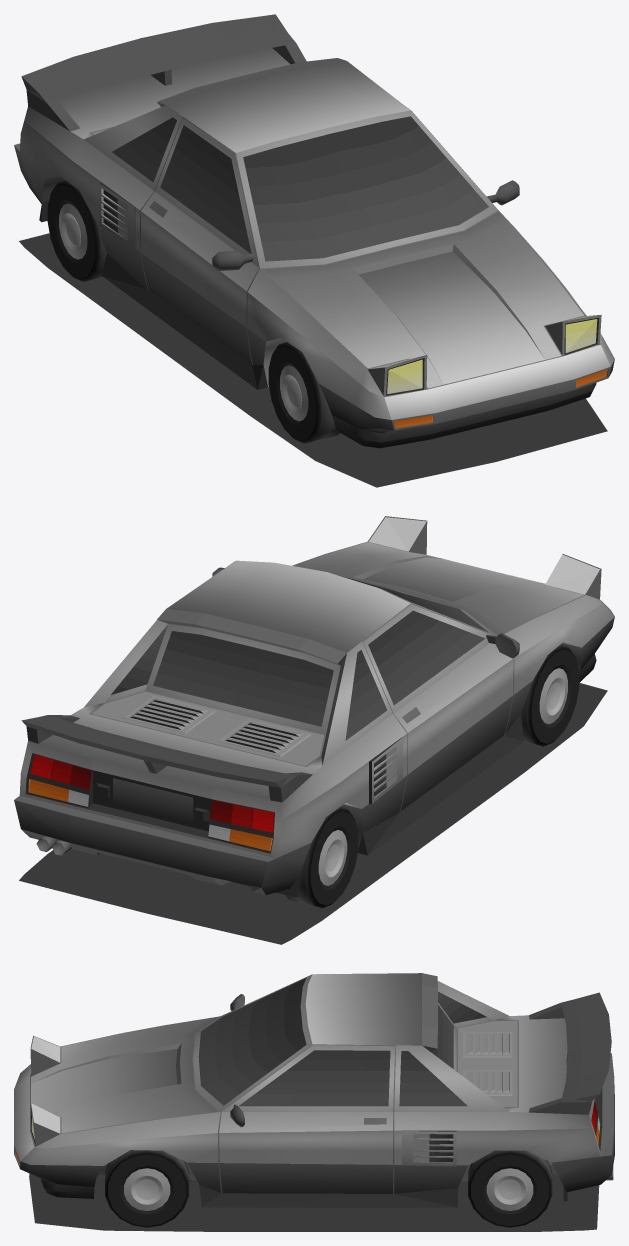
3 views of the same model, one above another, from view 1: azimuth 30°, elevation 25°; view 2: azimuth 150°, elevation 25°; view 3: azimuth 270°, elevation 25° (orthographic). The views are drawn at different scales.
Parts seen in each view (by area): view 1: body, shadow, Wheel RF, Wheel RR; view 2: body, shadow, Wheel RR, back lights, Wheel RF; view 3: body, shadow, Wheel LF, wheel LR.
Boxes of the visible parts, x1,y1,x2,y2 form: body: (14,14,614,448); shadow: (19,233,607,487); Wheel RF: (268,342,339,443); Wheel RR: (47,180,106,281); body: (14,516,614,897); shadow: (19,683,607,944); Wheel RR: (285,807,358,908); back lights: (28,754,274,851); Wheel RF: (521,645,579,746); body: (14,973,614,1207); shadow: (29,1173,599,1231); Wheel LF: (105,1150,189,1227); wheel LR: (468,1150,552,1227).
Size of the model in its own units: 88.35 by 58.17 by 183.
